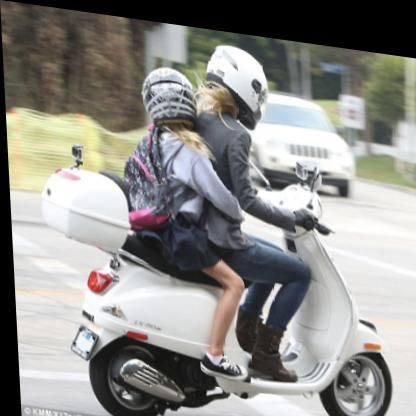With Helmet: (206, 29, 271, 124), (139, 60, 197, 121)
